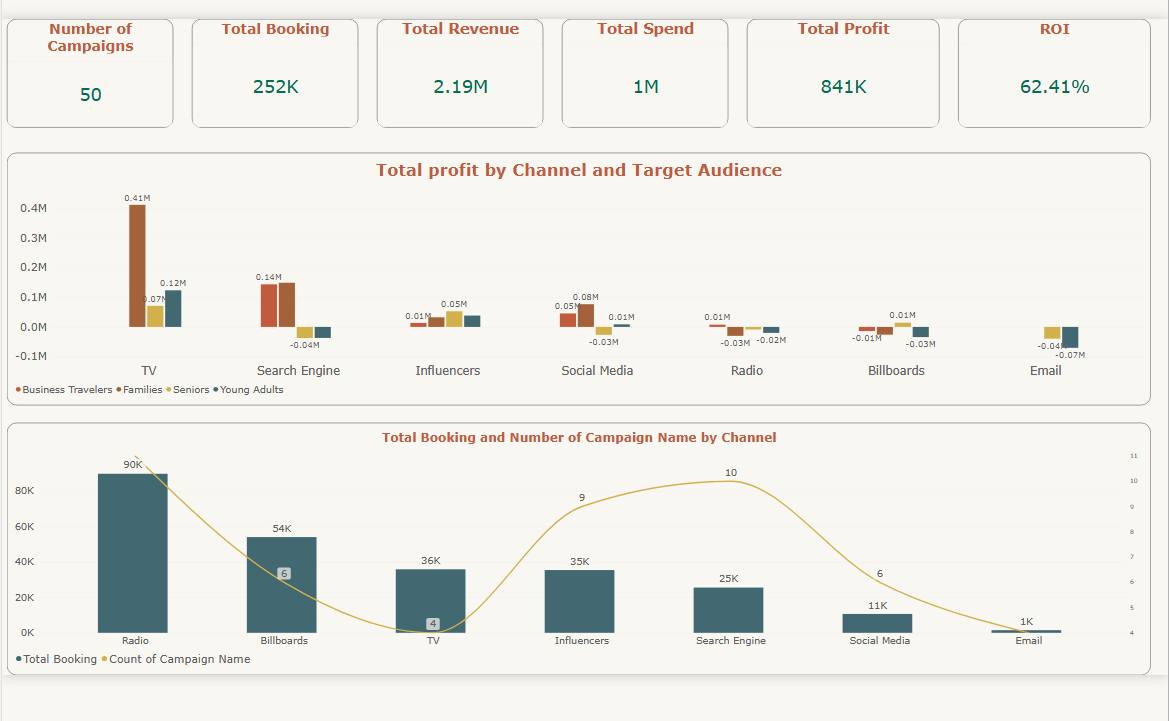

What the dashboard file says about the page in this screenshot:
{"tool":"powerbi","page":{"name":"Page2","canvas":[2560,1440],"ordinal":1},"visuals":[{"type":"cardVisual","title":"Number of Campaigns","fields":{"Data":["DAX_Measures.# campaigns"]},"box":[11,0,365,238.8],"z":0},{"type":"cardVisual","title":"Total Booking","fields":{"Data":["DAX_Measures.Total Booking"]},"box":[417.2,0,365,238.8],"z":1000},{"type":"cardVisual","title":"Total Revenue","fields":{"Data":["DAX_Measures.Total Revenue"]},"box":[823.3,0,365,238.8],"z":2000},{"type":"cardVisual","title":"Total Spend","fields":{"Data":["DAX_Measures.Total spend"]},"box":[1229.5,0,365,238.8],"z":3000},{"type":"cardVisual","title":"Total Profit","fields":{"Data":["DAX_Measures.Total profit"]},"box":[1635.7,0,422.6,238.8],"z":4000},{"type":"cardVisual","title":"ROI","fields":{"Data":["DAX_Measures.ROI"]},"box":[2099.5,0,422.6,238.8],"z":5000},{"type":"clusteredColumnChart","fields":{"Category":["Sheet1.Channel"],"Series":["Sheet1.Target Audience"],"Y":["DAX_Measures.Total profit"]},"box":[11,293.7,2511.2,554.4],"z":5001},{"type":"lineStackedColumnComboChart","title":"Total Booking and Number of Campaign Name by Channel","fields":{"Category":["Sheet1.Channel"],"Y":["DAX_Measures.Total Booking"],"Y2":["CountNonNull(Sheet1.Campaign Name)"]},"box":[11,886.5,2511,554],"z":5002}]}

Visuals, with their boxes on the page's 2560x1440 design canvas (x1, y1, x2, y2). These are canvas units, not pixel positions in the 1169x721 screenshot, which may show the page scaled, cropped or inside an application window:
"Number of Campaigns" cardVisual: Rect(11, 0, 376, 239)
"Total Booking" cardVisual: Rect(417, 0, 782, 239)
"Total Revenue" cardVisual: Rect(823, 0, 1188, 239)
"Total Spend" cardVisual: Rect(1230, 0, 1594, 239)
"Total Profit" cardVisual: Rect(1636, 0, 2058, 239)
"ROI" cardVisual: Rect(2100, 0, 2522, 239)
clusteredColumnChart - Sheet1.Channel x Sheet1.Target Audience: Rect(11, 294, 2522, 848)
"Total Booking and Number of Campaign Name by Channel" lineStackedColumnComboChart: Rect(11, 886, 2522, 1440)
